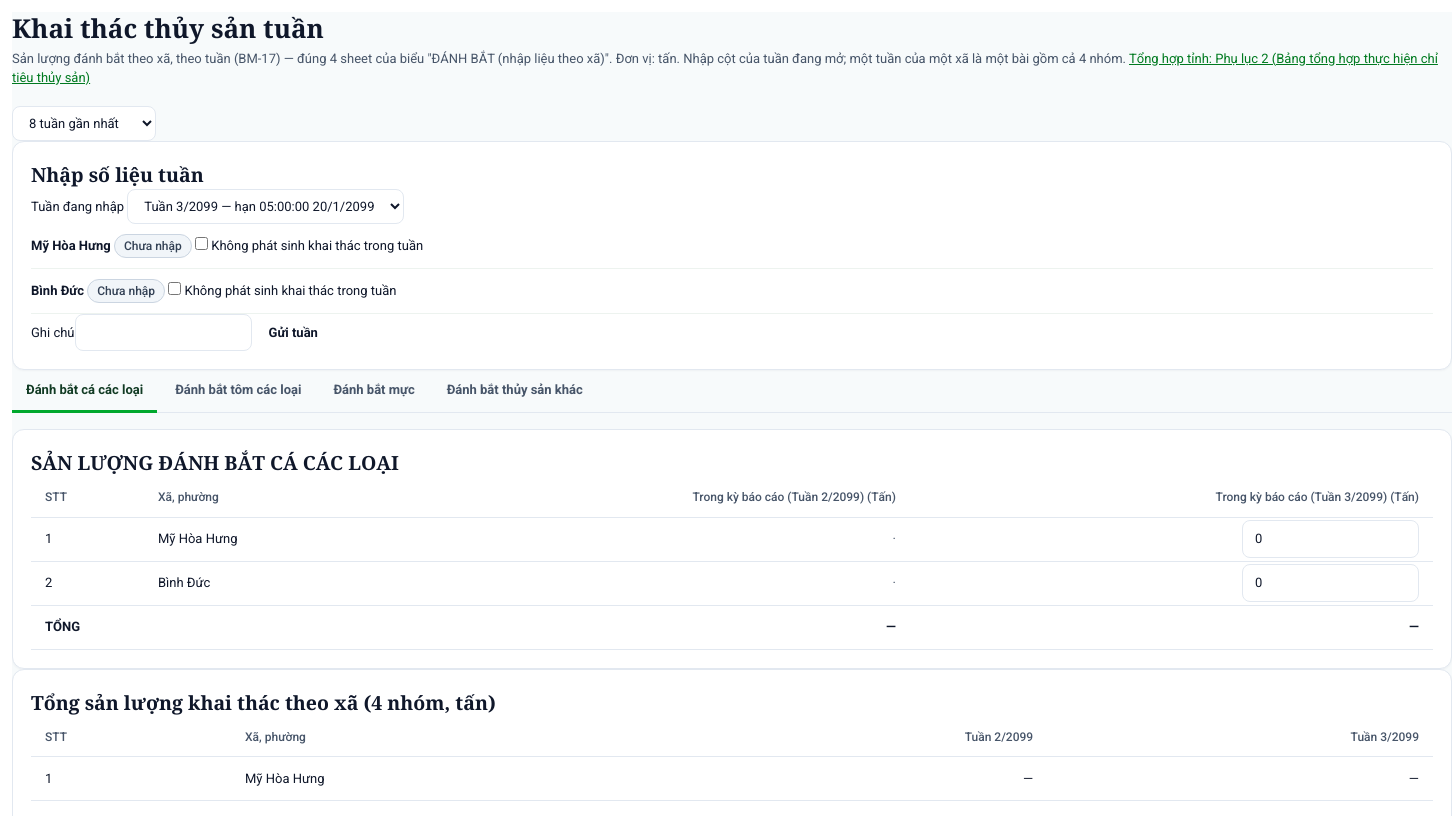
it: màn Khai thác thủy sản tuần › sửa số xã đã lưu sau lỗi giữa chừng: gửi bài mới trên phiên bản đọc lại, không 409
Click the button "Gửi tuần" at (293, 333), box [252,314,335,351]
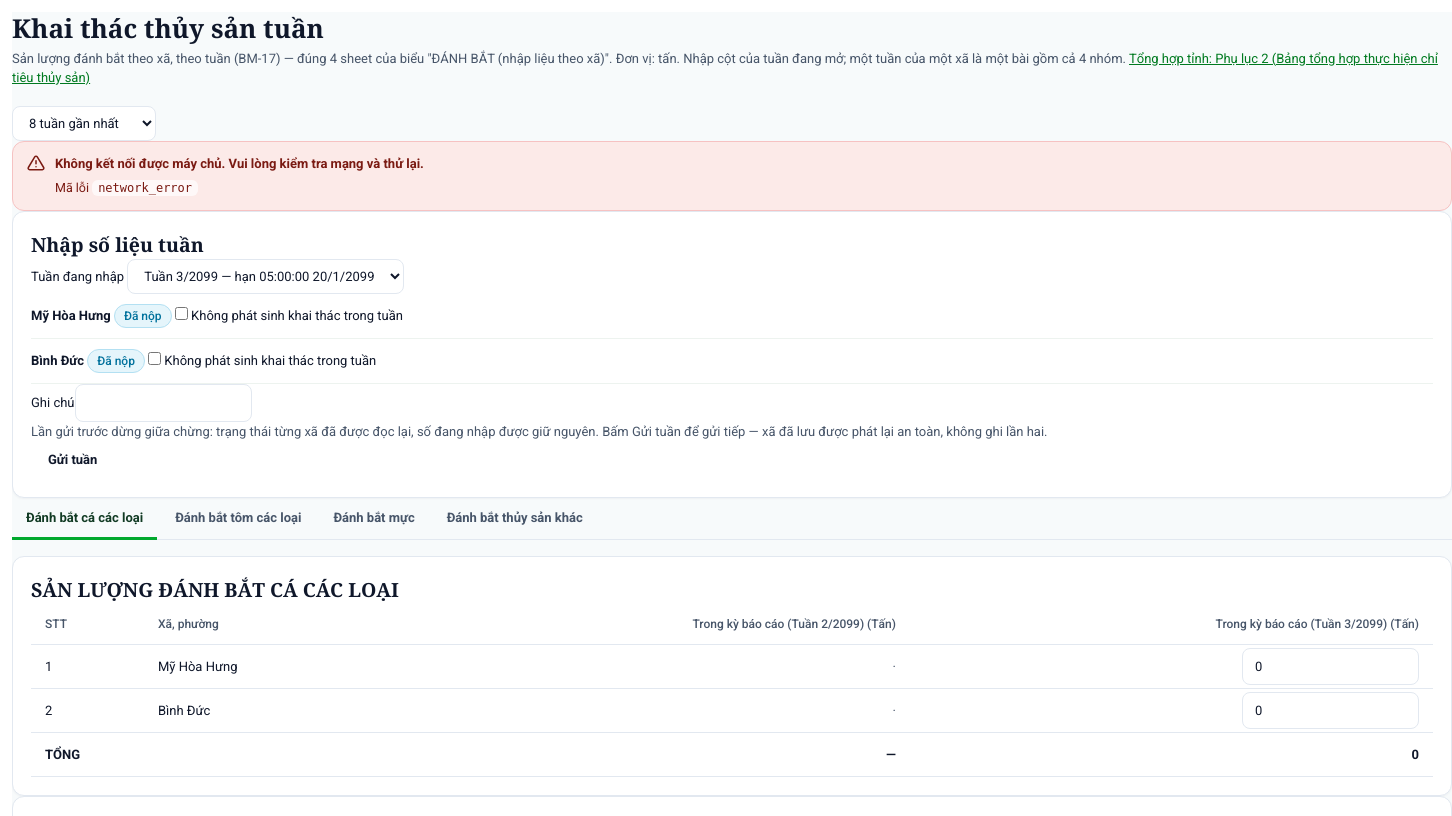
Now the 2nd text "Đã nộp" is shown, box [87,349,145,373]
Replace the text in the field named "Đánh bắt cá các loại Bình Đức Tuần 3/2099 (tấn)" with "4" at (1330, 710), box [1242,692,1419,729]
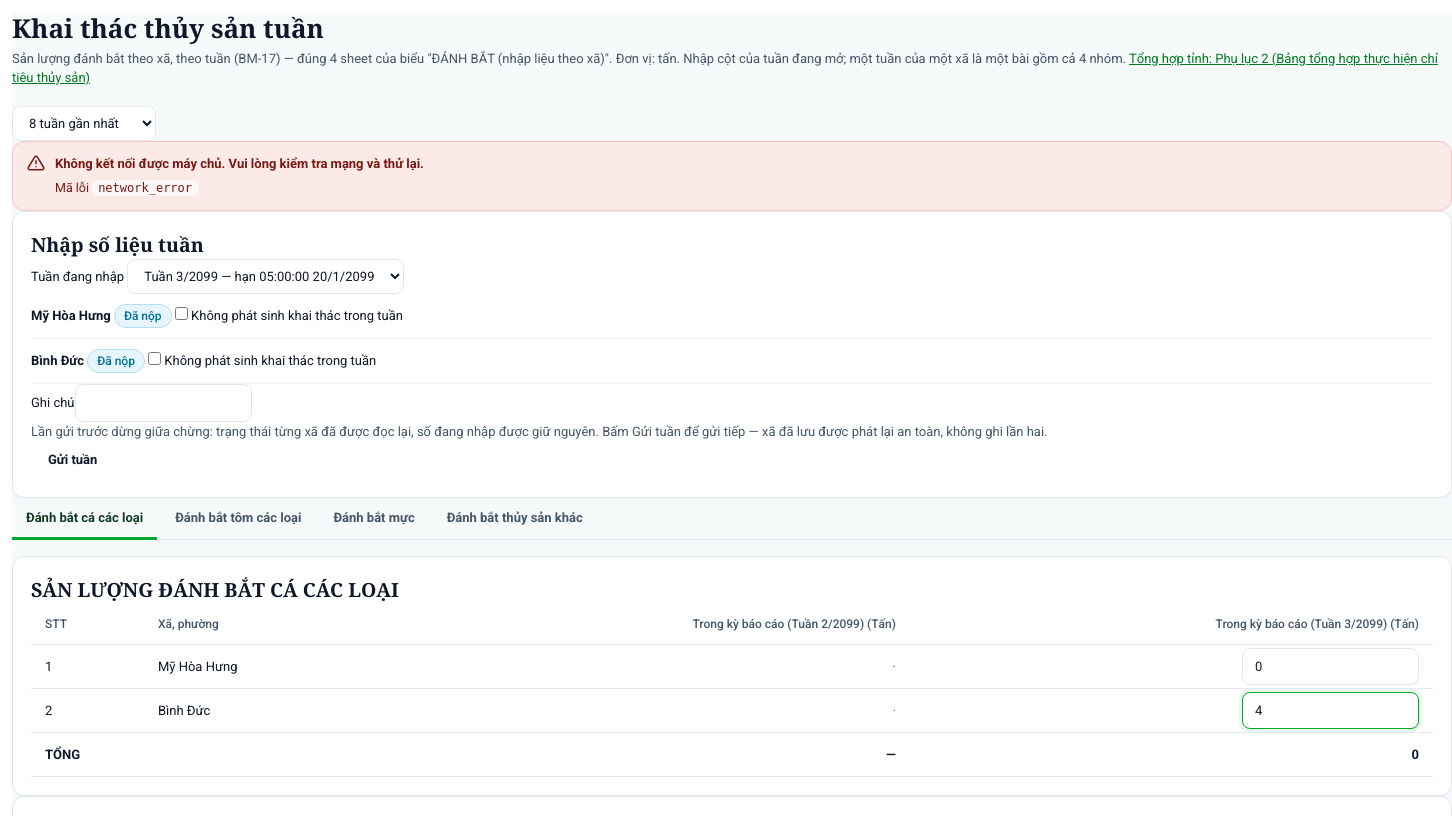
Click the button "Gửi tuần" at (73, 460), box [31,441,114,478]
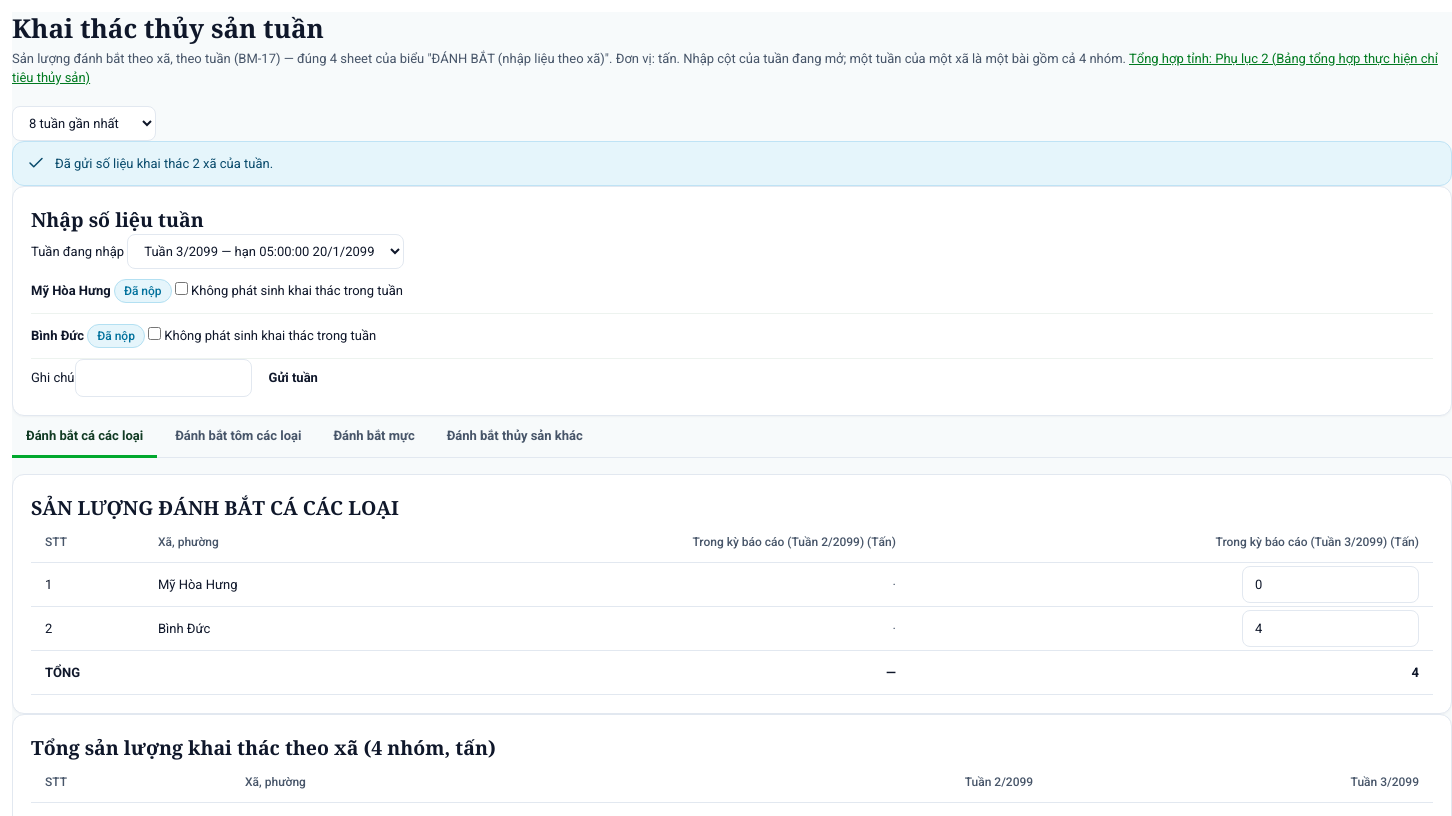
Now the text "Đã gửi số liệu khai thác 2 xã của tuần." is shown, box [55,154,273,173]
